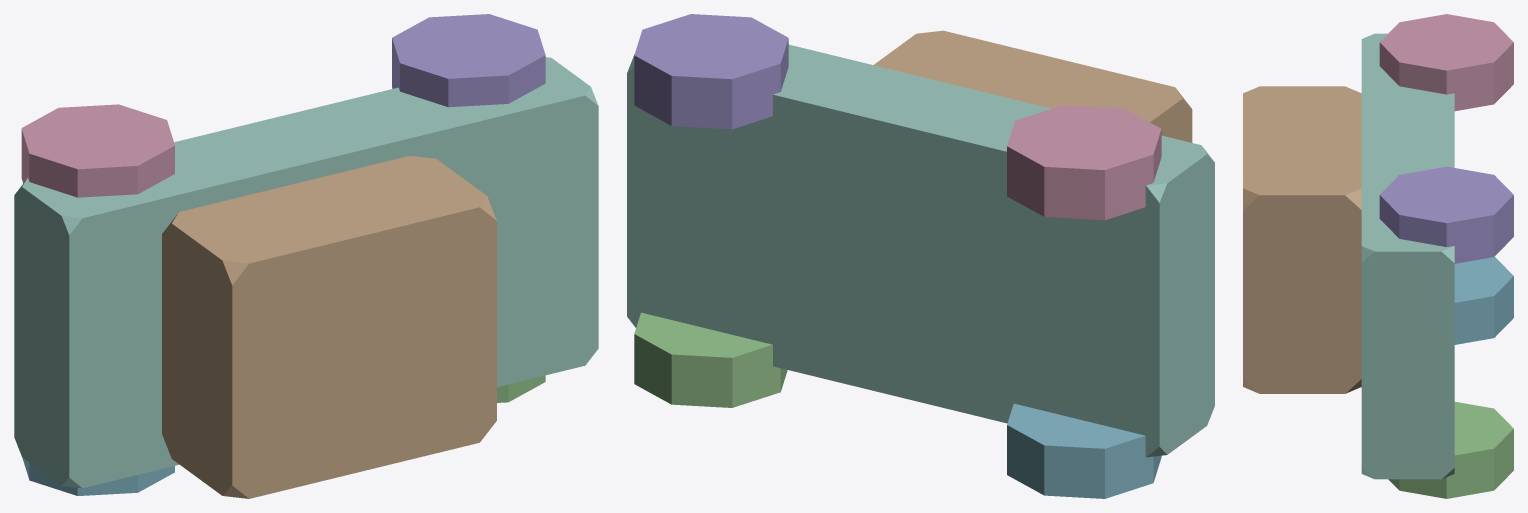
The picture shows the model from 3 angles, left to right: view 1: azimuth 30°, elevation 25°; view 2: azimuth 150°, elevation 25°; view 3: azimuth 270°, elevation 25°; orthographic projection. The views are drawn at different scales.
Visible parts, largest first — view 1: part1, part0, part4, part2, part5, part3; view 2: part0, part2, part4, part1, part5, part3; view 3: part1, part0, part4, part2, part3, part5.
Part boxes in pixels (left/top/right/bottom): part1: left=162, top=156, right=496, bottom=498; part0: left=14, top=57, right=598, bottom=488; part4: left=21, top=104, right=174, bottom=197; part2: left=392, top=14, right=545, bottom=107; part5: left=22, top=457, right=174, bottom=495; part3: left=497, top=375, right=545, bottom=402; part0: left=627, top=44, right=1214, bottom=457; part2: left=634, top=14, right=788, bottom=129; part4: left=1007, top=105, right=1161, bottom=220; part1: left=873, top=30, right=1192, bottom=142; part5: left=1007, top=403, right=1161, bottom=498; part3: left=634, top=312, right=787, bottom=407; part1: left=1243, top=86, right=1361, bottom=393; part0: left=1361, top=33, right=1454, bottom=479; part4: left=1379, top=14, right=1513, bottom=111; part2: left=1379, top=166, right=1513, bottom=263; part3: left=1388, top=401, right=1513, bottom=498; part5: left=1454, top=256, right=1513, bottom=344.
Size of the model in its own units: 4 by 2.36 by 2.1.
